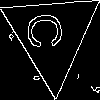C: (27, 11, 71, 50)
